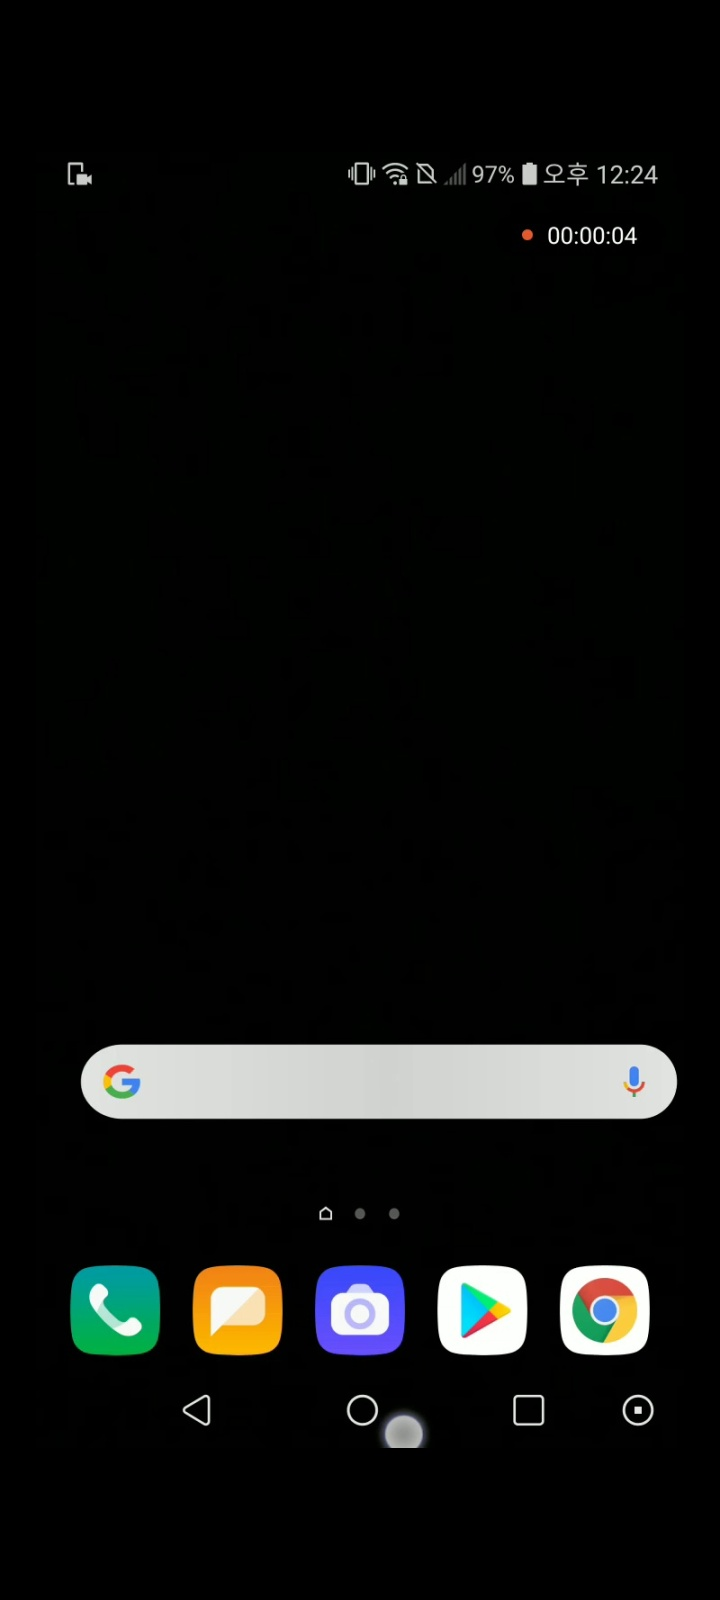Cursor: (383, 1412, 429, 1448)
